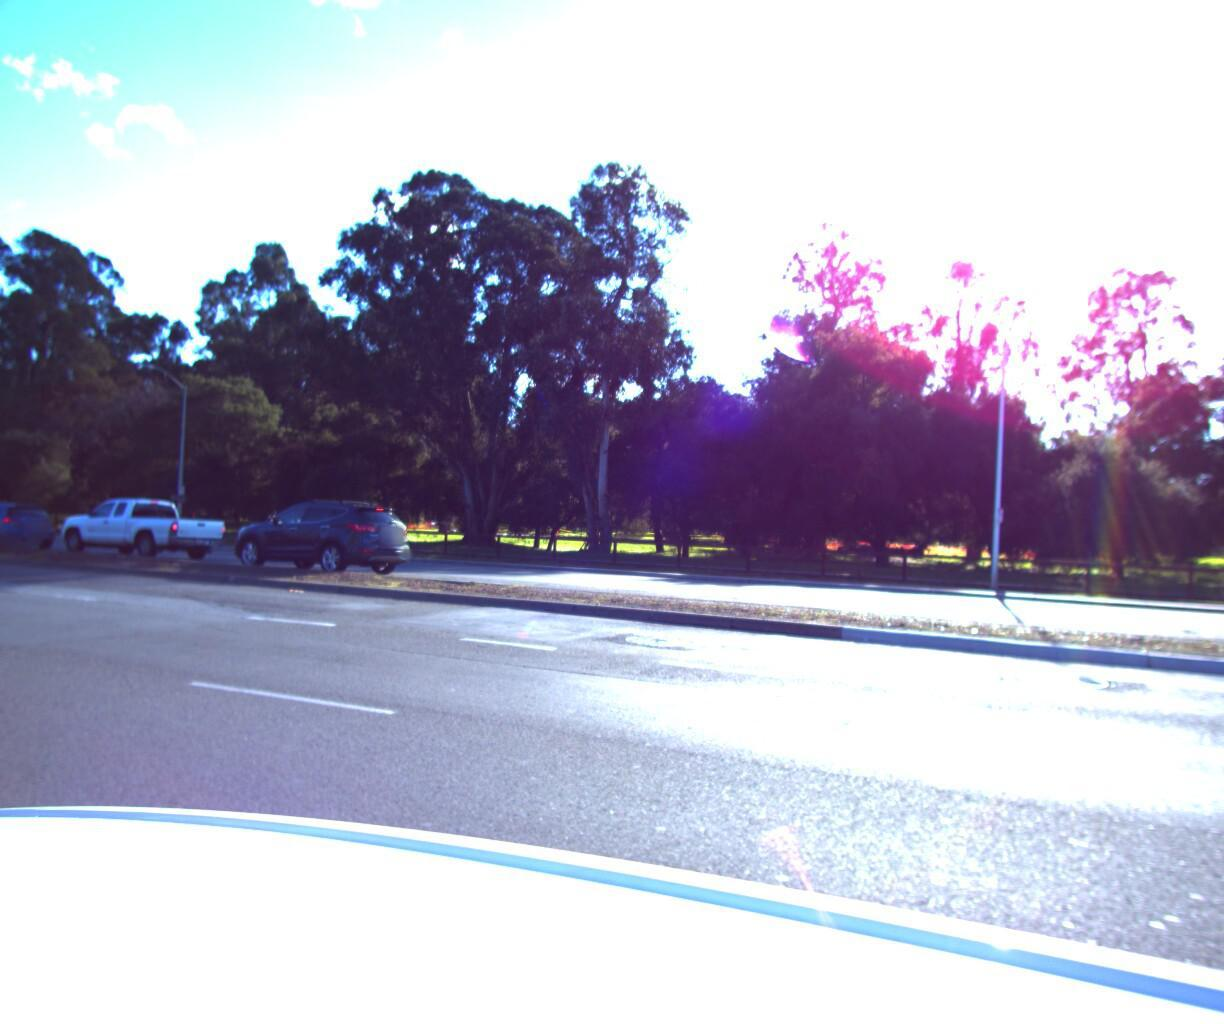car: (210, 490, 425, 579), (44, 487, 235, 561), (0, 492, 64, 547), (0, 488, 25, 537)
